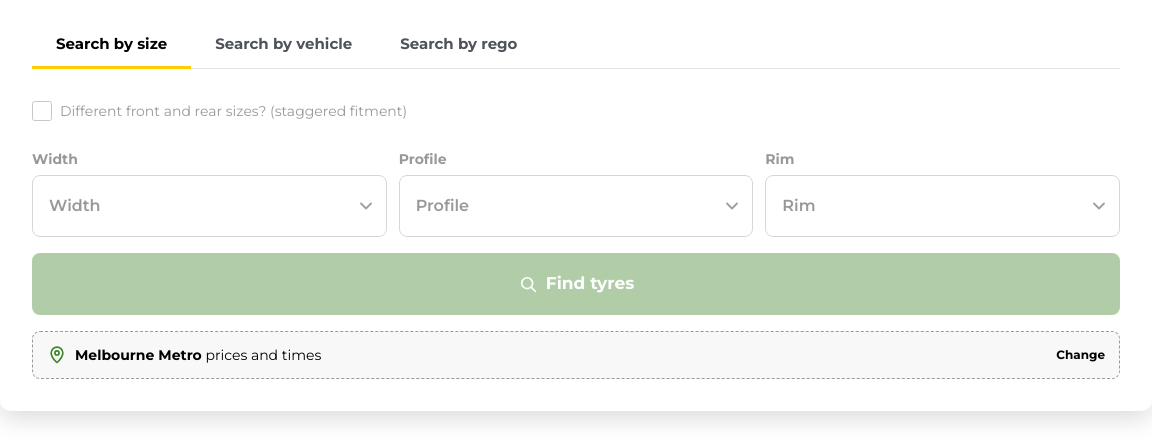
Test: Rego tab › rejects punctuation in the plate
Click the tab "Search by rego".
click(459, 45)  # box [376,21,542,69]
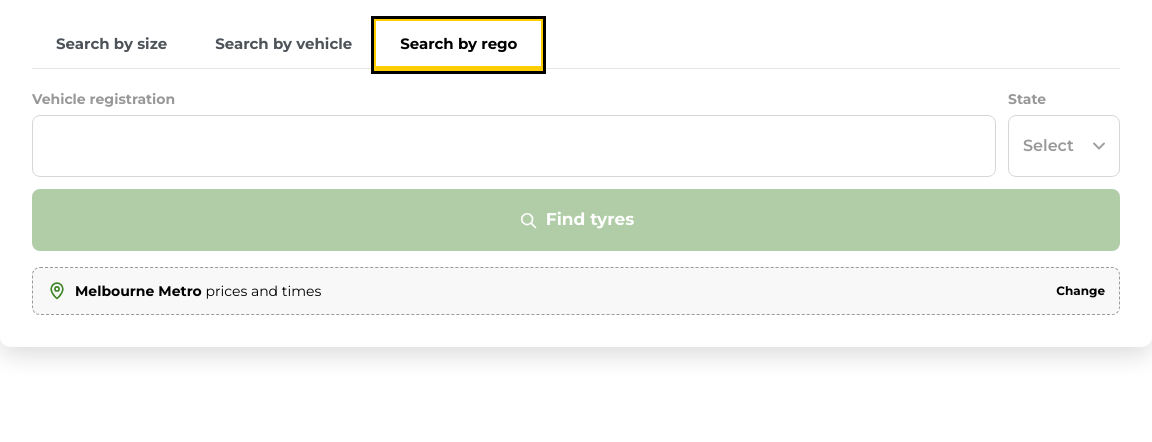
Type "AB!12" into the field labelled "Vehicle registration".
click(514, 146); type("AB!12")  # box [32,115,996,177]
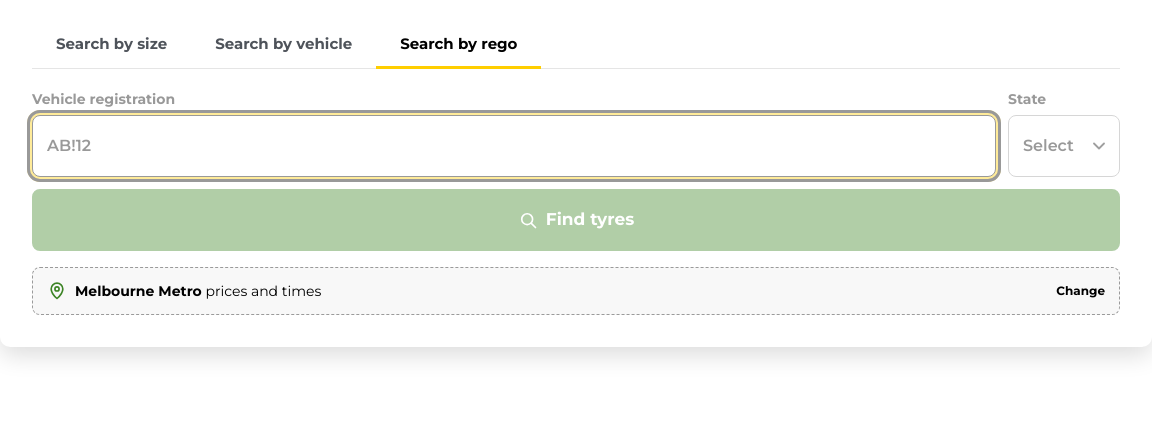
Select "VIC" in the dropdown labelled "State" at (1064, 146), box [1008,115,1120,177]
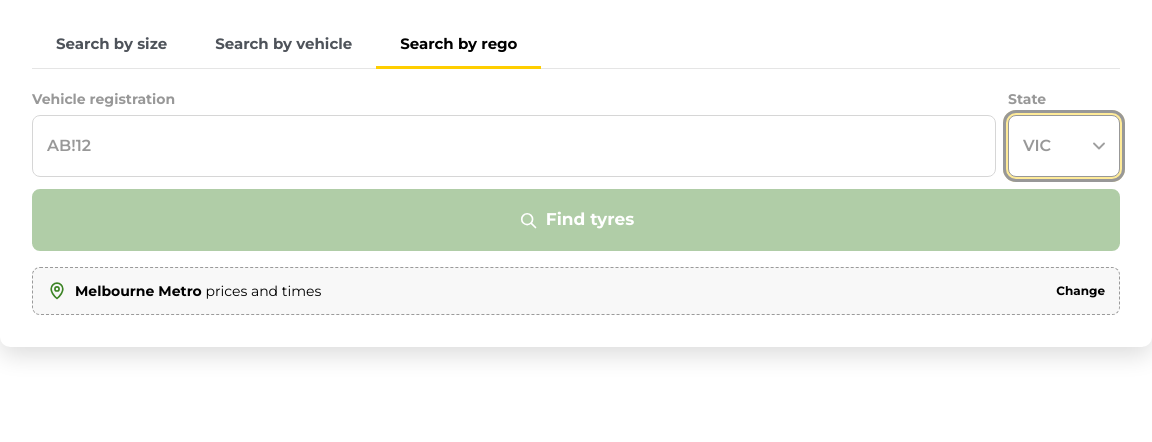
Click the button "Find tyres".
click(576, 220)  # box [32,189,1120,251]
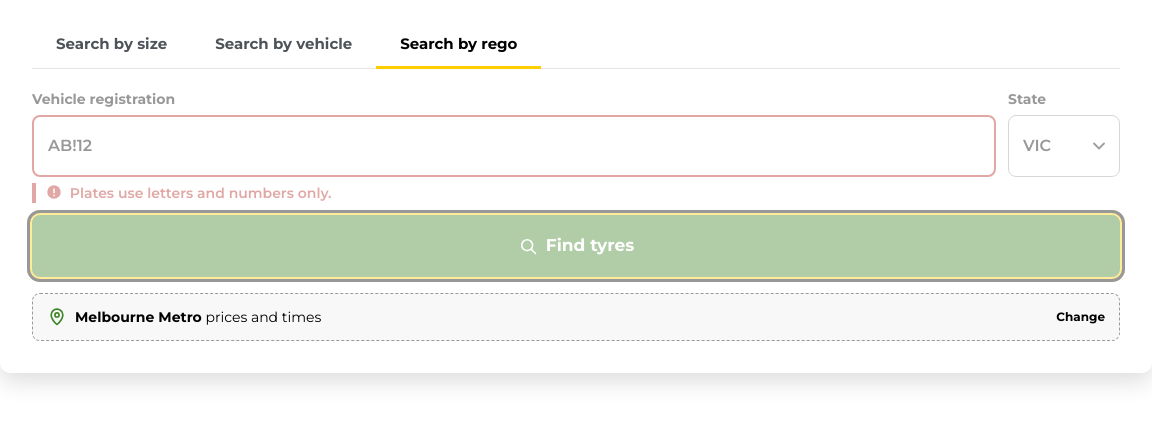
Result: the text "Plates use letters and numbers only." is shown at [32,183,996,203]
